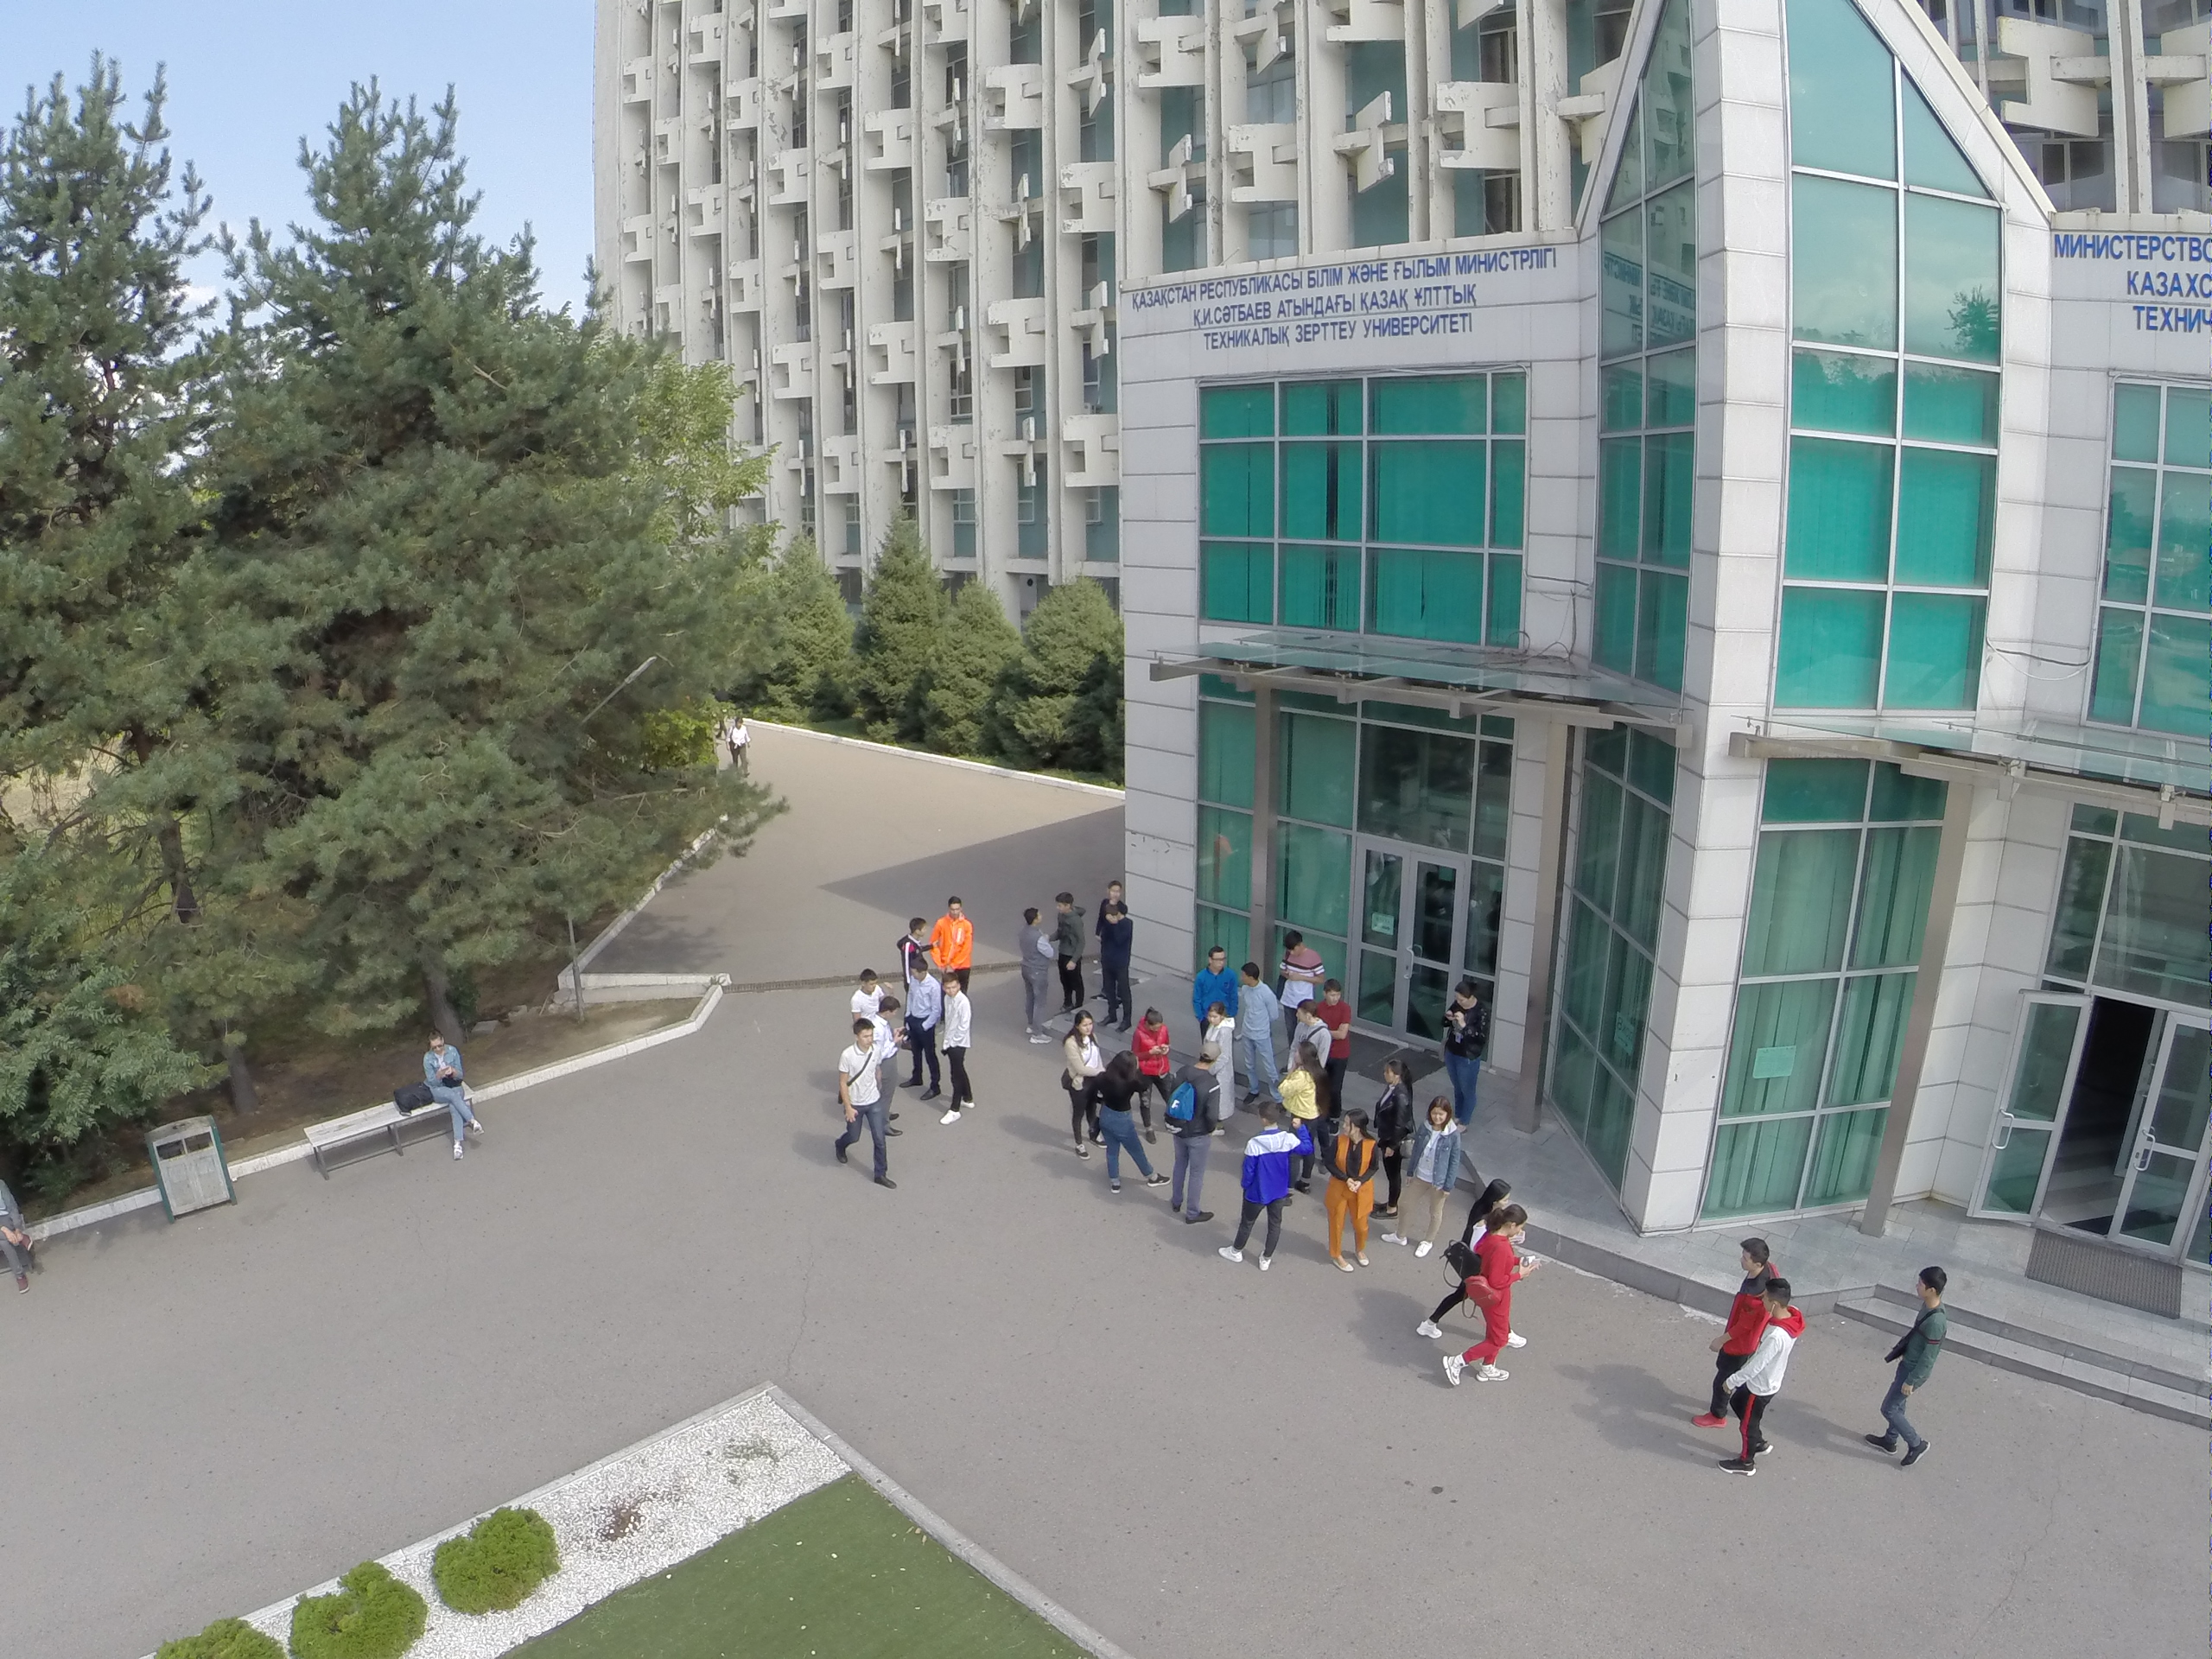person: (1713, 1271, 1814, 1491), (1861, 1260, 1958, 1477), (1420, 1177, 1521, 1354), (1448, 1206, 1536, 1404), (1694, 1228, 1774, 1433), (1388, 1092, 1470, 1268), (1221, 1091, 1294, 1278), (1084, 1045, 1169, 1202), (1318, 1101, 1381, 1285), (832, 1015, 893, 1193), (420, 1025, 486, 1169), (1177, 1045, 1226, 1239), (1225, 961, 1282, 1111), (935, 972, 982, 1131), (1437, 982, 1492, 1109), (1012, 905, 1059, 1047), (897, 963, 942, 1103), (1060, 1012, 1100, 1163), (1381, 1052, 1415, 1222), (1318, 969, 1355, 1116), (1131, 1011, 1174, 1131), (1205, 1007, 1243, 1144), (1098, 903, 1135, 1031), (1052, 893, 1087, 1006), (1276, 925, 1316, 1018), (937, 896, 972, 979), (1196, 942, 1230, 1026), (1286, 995, 1329, 1056), (843, 968, 883, 1020), (725, 718, 752, 781), (900, 916, 928, 963)
